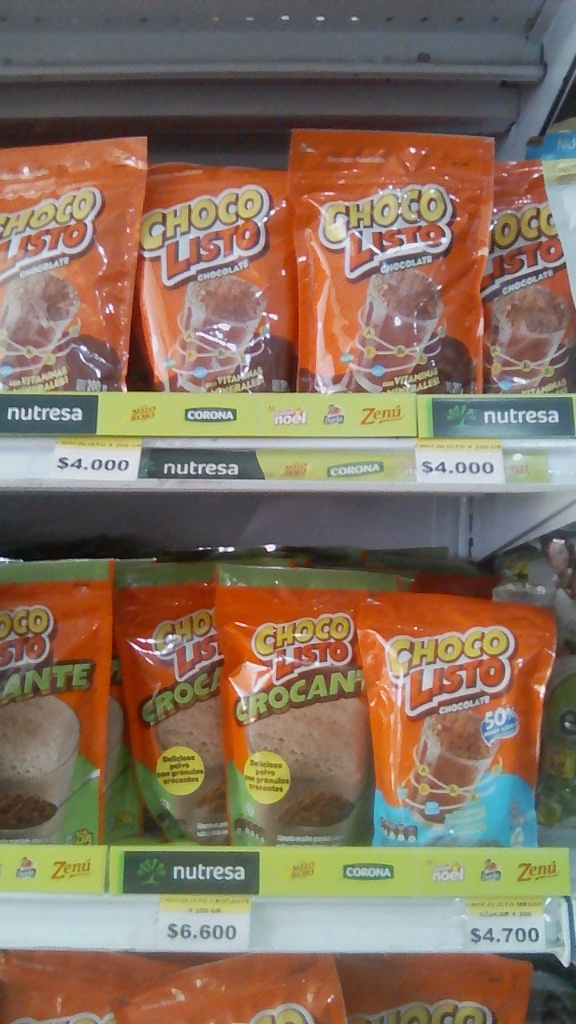COL0170104DYP20000: (360, 586, 552, 843)
